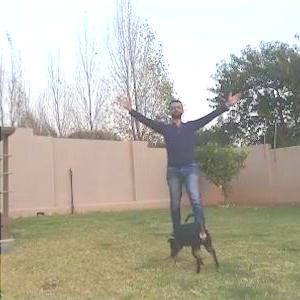takeoff: (111, 66, 254, 243)
